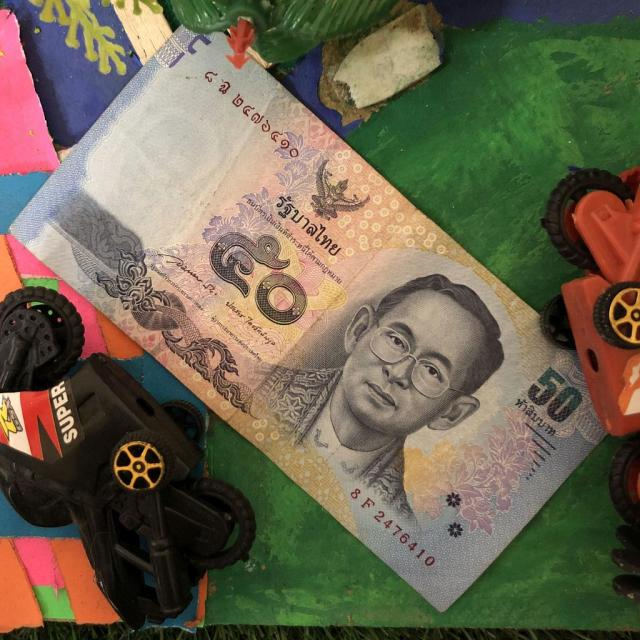THAI50: (11, 28, 605, 609)
